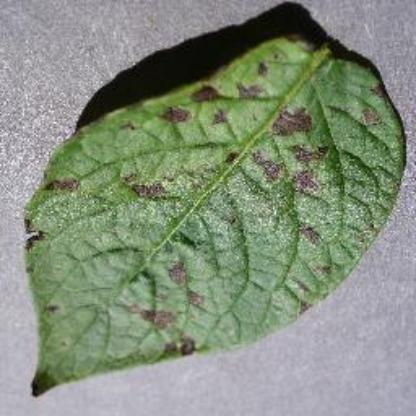Early-Blight: (25, 28, 410, 397)
